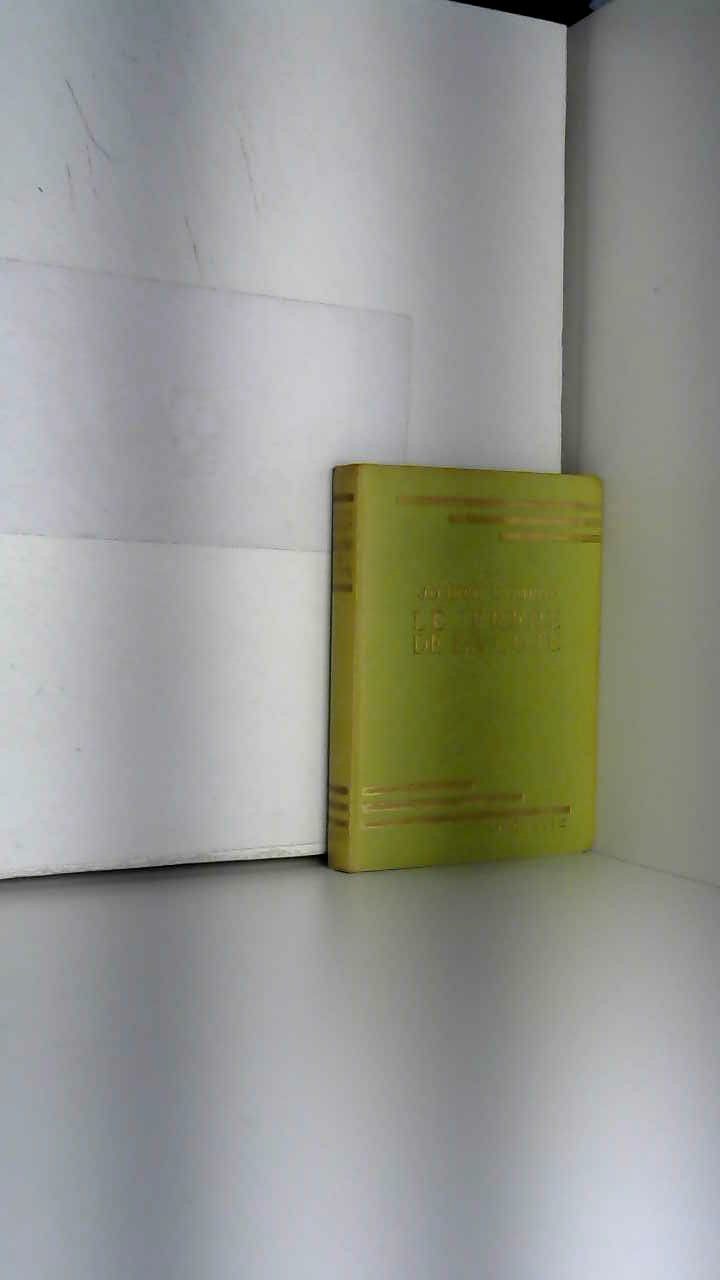book: (286, 426, 646, 921)
